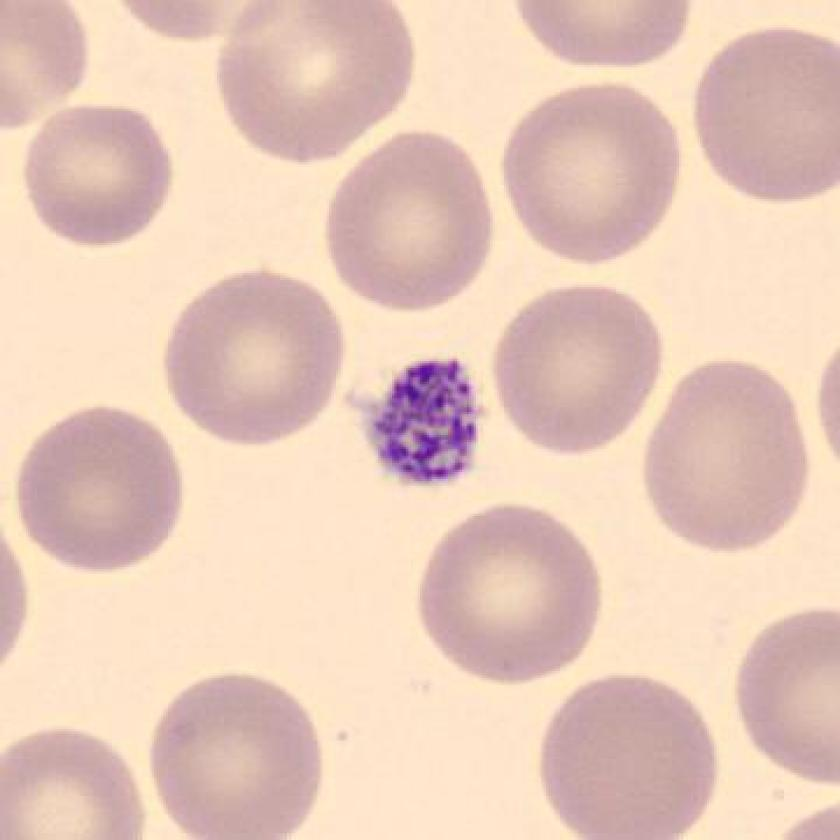platelets: (351, 346, 491, 492)
